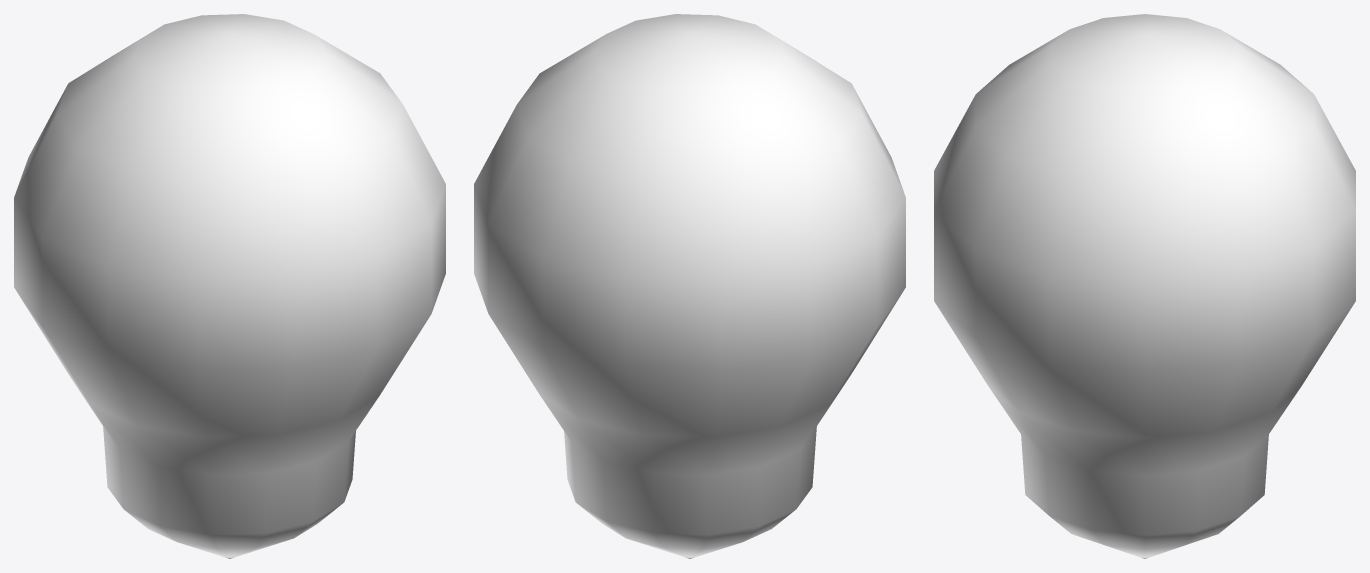
File: lightbulb_off.fbx
3 views of the same model, side by side, from view 1: azimuth 30°, elevation 25°; view 2: azimuth 150°, elevation 25°; view 3: azimuth 270°, elevation 25° (orthographic).
Visible parts, largest first — view 1: lightbulb_1; view 2: lightbulb_1; view 3: lightbulb_1.
Boxes of the visible parts, left/top/right/bottom form: lightbulb_1: left=14, top=14, right=445, bottom=558; lightbulb_1: left=474, top=14, right=905, bottom=558; lightbulb_1: left=934, top=14, right=1355, bottom=558.
Size of the model in its own units: 57.39 by 76.69 by 55.95.
Materials: 1 (1 with a texture image).
